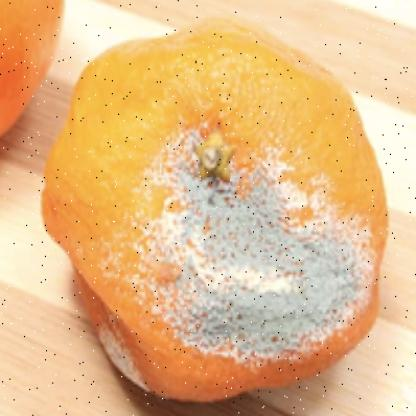rotten: (42, 21, 388, 400)
